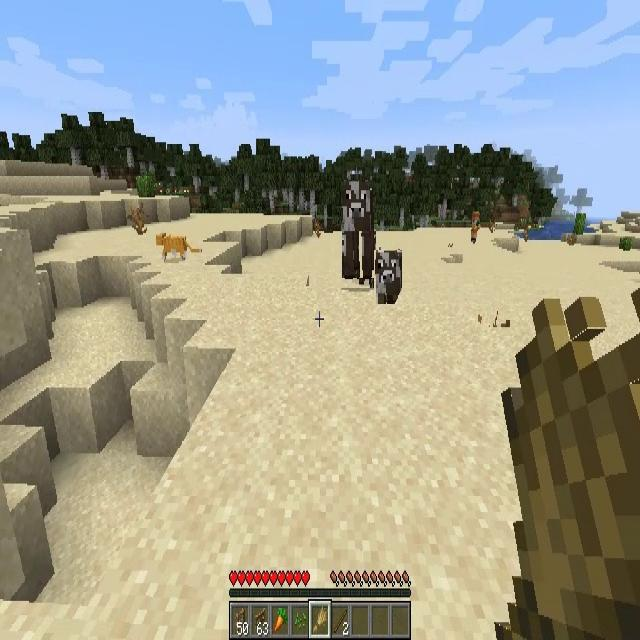cow: (342, 180, 374, 278), (374, 250, 402, 305)
